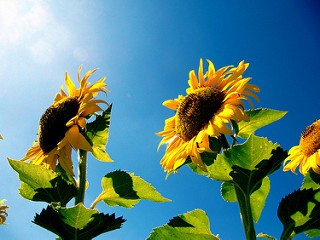flower: (153, 54, 263, 182), (20, 62, 113, 191), (285, 107, 320, 179)
